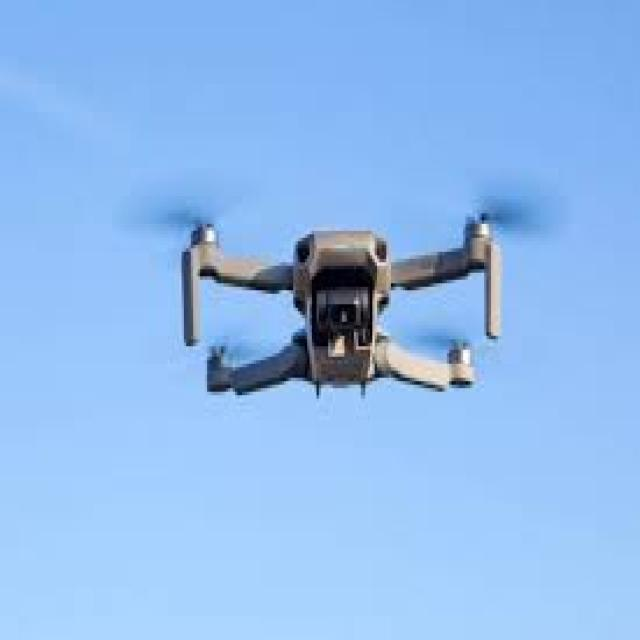drone: (121, 169, 567, 427)
